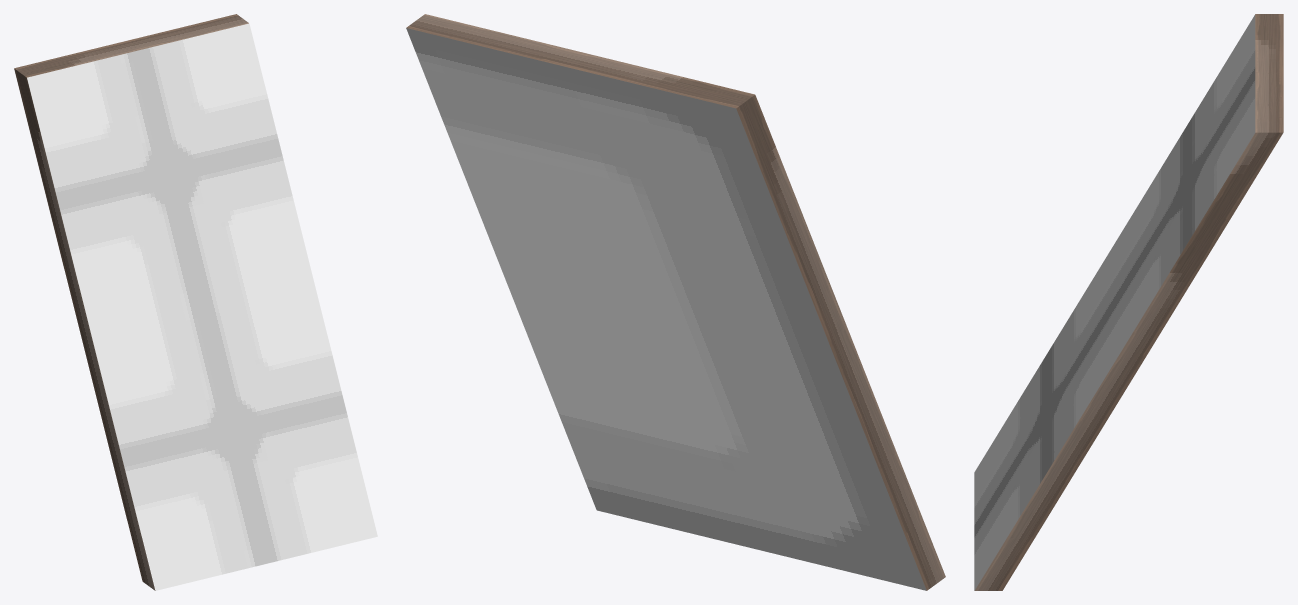
The model's file is SM_Roof_08.fbx.
The picture shows the model from 3 angles, left to right: view 1: azimuth 30°, elevation 25°; view 2: azimuth 150°, elevation 25°; view 3: azimuth 270°, elevation 25°; orthographic projection. The views are drawn at different scales.
Parts seen in each view (by area): view 1: SM_Roof_08_LOD0; view 2: SM_Roof_08_LOD0; view 3: SM_Roof_08_LOD0.
Part boxes in pixels (x1,y1,x2,y2): SM_Roof_08_LOD0: (14,14,377,590); SM_Roof_08_LOD0: (406,14,945,590); SM_Roof_08_LOD0: (974,14,1283,590).
Size of the model in its own units: 500 by 550 by 900.
